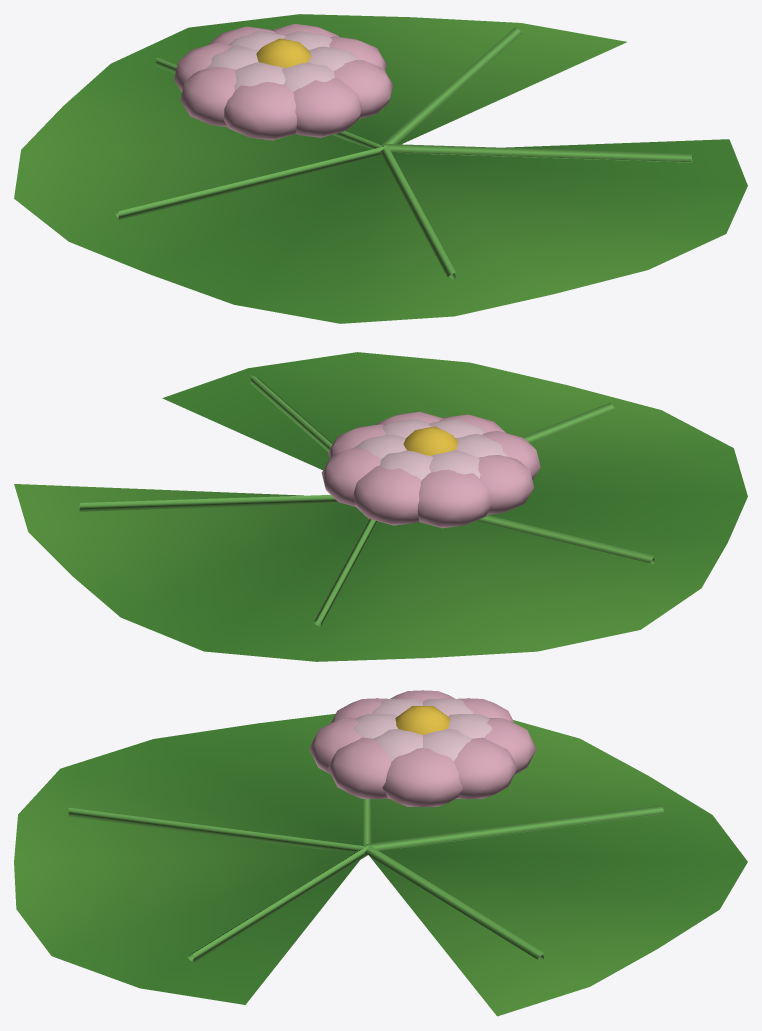
File: lilypad_flower.glb
3 views of the same model, one above another, from view 1: azimuth 30°, elevation 25°; view 2: azimuth 150°, elevation 25°; view 3: azimuth 270°, elevation 25° (orthographic).
Visible parts, largest first — view 1: lilypad_flower_main; view 2: lilypad_flower_main; view 3: lilypad_flower_main.
Boxes of the visible parts, left/top/right/bottom form: lilypad_flower_main: left=14, top=14, right=747, bottom=323; lilypad_flower_main: left=14, top=352, right=747, bottom=661; lilypad_flower_main: left=14, top=690, right=747, bottom=1016.
Size of the model in its own units: 0.5138 by 0.095 by 0.5199.
